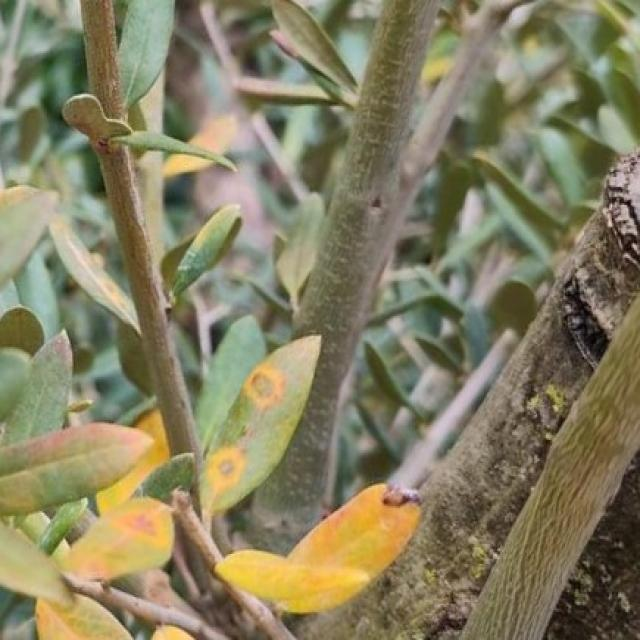OlivePeacockSpot: (204, 336, 320, 514), (0, 423, 152, 511), (288, 484, 418, 576), (64, 500, 170, 580), (215, 549, 371, 600), (172, 205, 241, 294)
